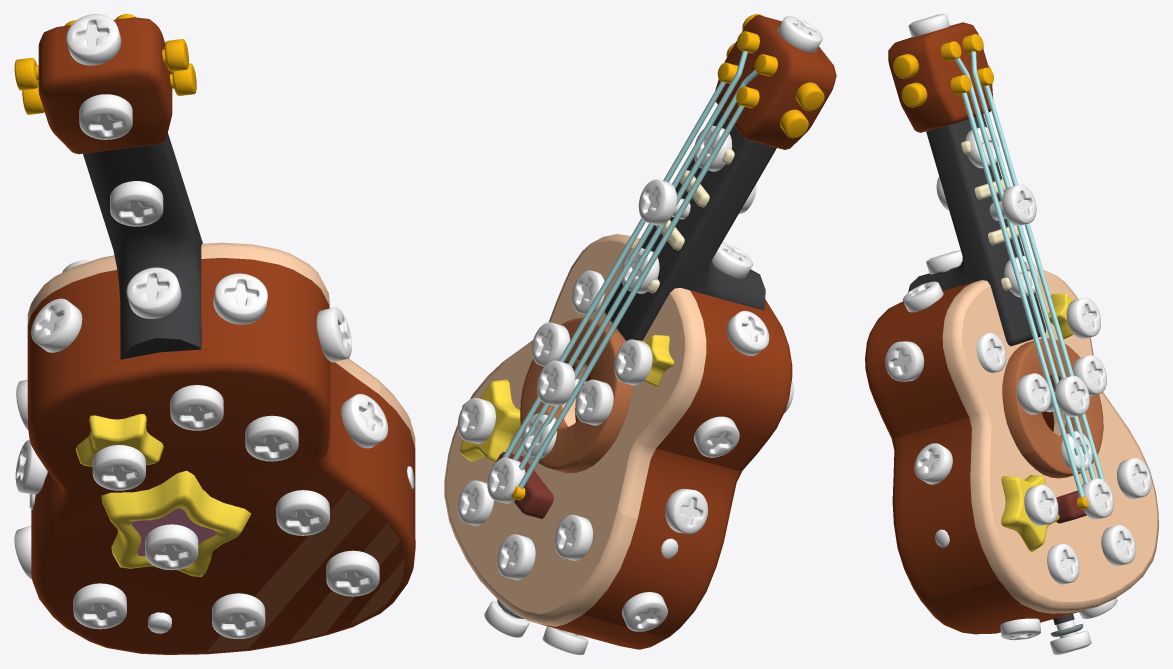
Rendered from Guitar.fbx.
3 renders of one model, left to right at view 1: azimuth 30°, elevation 25°; view 2: azimuth 150°, elevation 25°; view 3: azimuth 270°, elevation 25°, orthographic. The views are drawn at different scales.
Parts seen in each view (by area): view 1: Guitar_024, Screw (×17), Guitar_008, Guitar_002, Guitar_018, Guitar_012, Guitar_027, Guitar_001, Guitar_014, Guitar_005, Guitar_026, Guitar_017 (+3 smaller); view 2: Screw (×21), Guitar_007, Guitar_013, Guitar_019, Guitar_001, Guitar_002, Guitar_012, Guitar_020, Guitar_025, Guitar_005, Guitar_006, Guitar_010 (+10 smaller); view 3: Screw (×21), Guitar_014, Guitar_025, Guitar_017, Guitar_018, Guitar_007, Guitar_002, Guitar_020, Guitar_012, Guitar_005, Guitar_006, Guitar_016 (+9 smaller).
Boxes of the visible parts, box(x1,y1,x2,y2) form: Guitar_024: box(31, 444, 415, 654); Screw (×17): box(14, 14, 388, 638); Guitar_008: box(28, 348, 330, 490); Guitar_002: box(14, 17, 196, 154); Guitar_018: box(201, 258, 330, 405); Guitar_012: box(108, 197, 202, 359); Guitar_027: box(101, 470, 251, 576); Guitar_001: box(27, 270, 120, 414); Guitar_014: box(329, 361, 415, 537); Guitar_005: box(83, 133, 188, 234); Guitar_026: box(75, 414, 163, 466); Guitar_017: box(201, 242, 379, 394); Screw (×21): box(457, 16, 822, 654); Guitar_007: box(480, 460, 637, 626); Guitar_013: box(583, 448, 730, 635); Guitar_019: box(600, 288, 706, 518); Guitar_001: box(656, 290, 780, 468); Guitar_002: box(715, 14, 836, 149); Guitar_012: box(605, 217, 765, 340); Guitar_020: box(612, 31, 777, 295); Guitar_025: box(444, 362, 575, 579); Guitar_005: box(675, 110, 776, 245); Guitar_006: box(492, 269, 635, 500); Guitar_010: box(573, 330, 632, 465); Screw (×21): box(885, 14, 1151, 654); Guitar_014: box(902, 417, 998, 598); Guitar_025: box(970, 447, 1100, 613); Guitar_017: box(942, 280, 1016, 478); Guitar_018: box(875, 282, 972, 435); Guitar_007: box(1053, 421, 1158, 606); Guitar_002: box(888, 22, 993, 132); Guitar_020: box(941, 34, 1047, 293); Guitar_012: box(908, 220, 1045, 346); Guitar_005: box(926, 114, 1006, 235); Guitar_006: box(1020, 285, 1104, 509); Guitar_016: box(932, 581, 1086, 632).
Bounding box in the file's own units: 6.6 × 10.99 × 5.33.
Materials: 2 (1 with a texture image).
